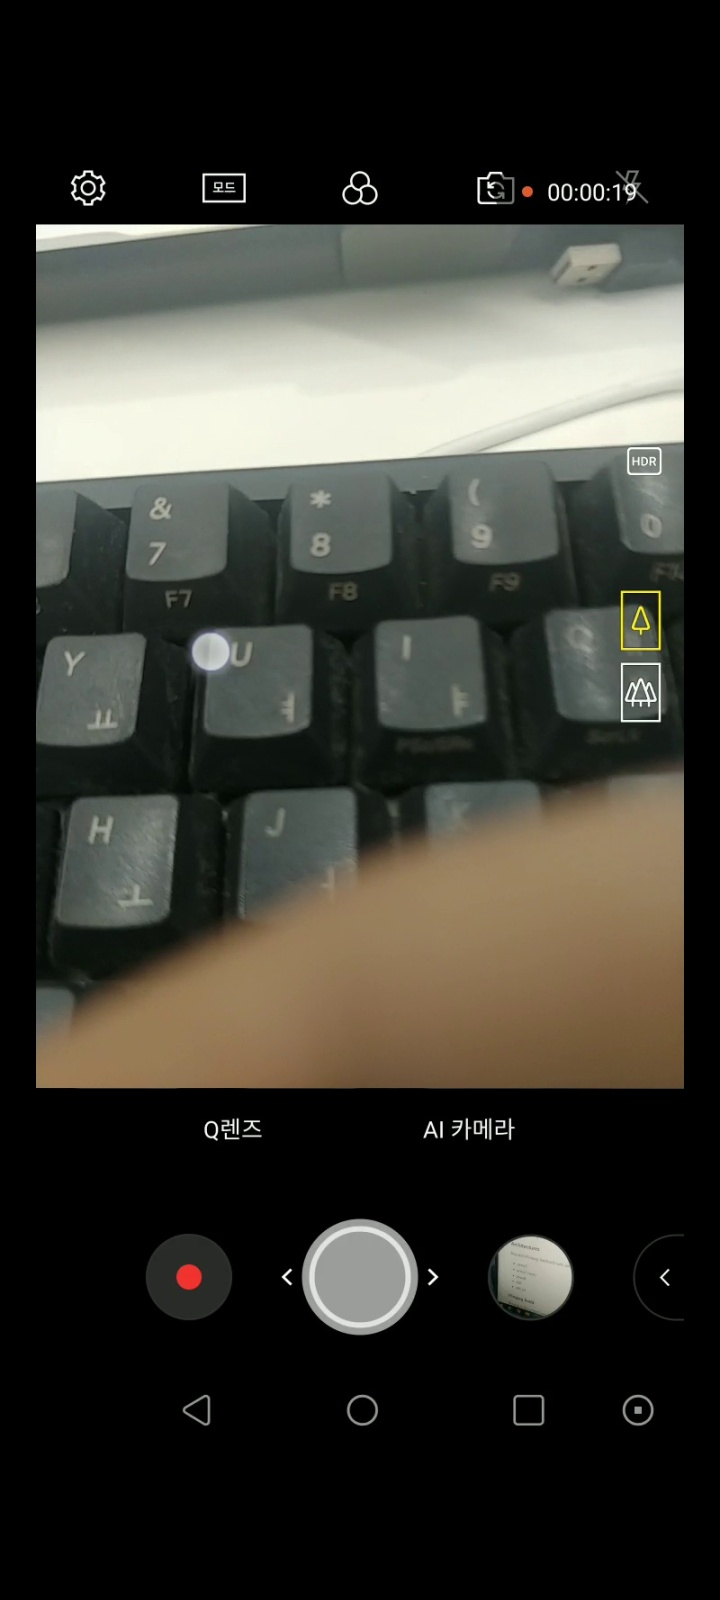Cursor: (189, 629, 234, 674)
